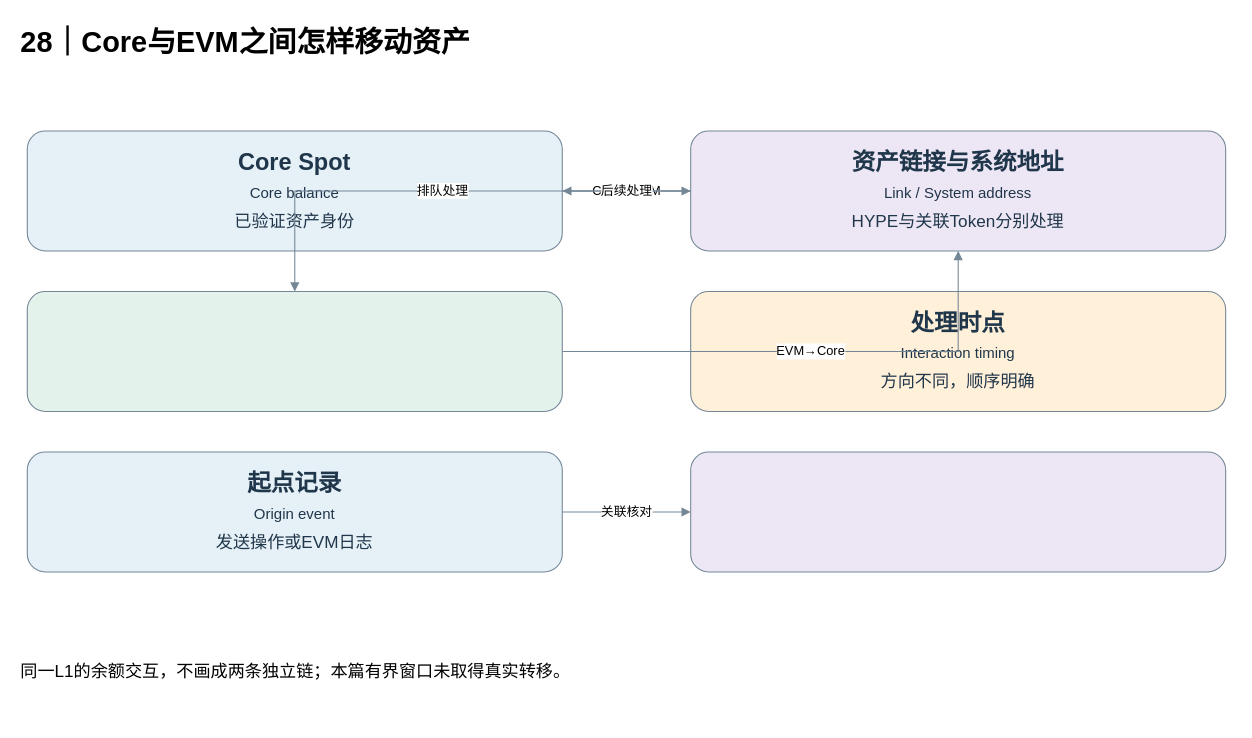
Some shapes in this 1252 by 738 pixel diagram are drawn without their labels. Here are the shapes that lost their labels. From the top down, the box of each, then its label:
(26, 291, 562, 411): EVM表示 Native HYPE / ERC-20 具体合约与精度
(690, 451, 1226, 572): 目标到账 Destination state 另需Core或EVM状态证据
